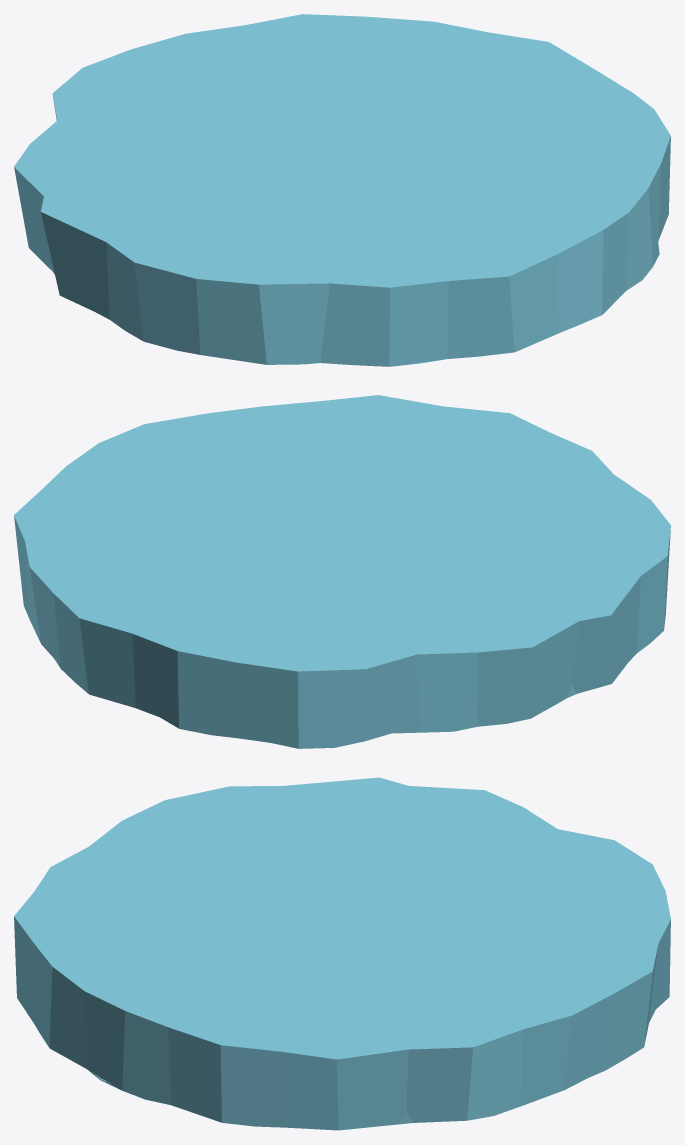
The model's file is IcePlatform_Circle.fbx.
3 views of the same model, one above another, from view 1: azimuth 30°, elevation 25°; view 2: azimuth 150°, elevation 25°; view 3: azimuth 270°, elevation 25° (orthographic).
Visible parts, largest first — view 1: Circle Platform - environment; view 2: Circle Platform - environment; view 3: Circle Platform - environment.
Boxes of the visible parts, x1,y1,x2,y2 form: Circle Platform - environment: [14, 14, 670, 366]; Circle Platform - environment: [14, 395, 670, 748]; Circle Platform - environment: [14, 777, 670, 1130].
Bounding box in the file's own units: 93.51 × 13.05 × 93.55.
